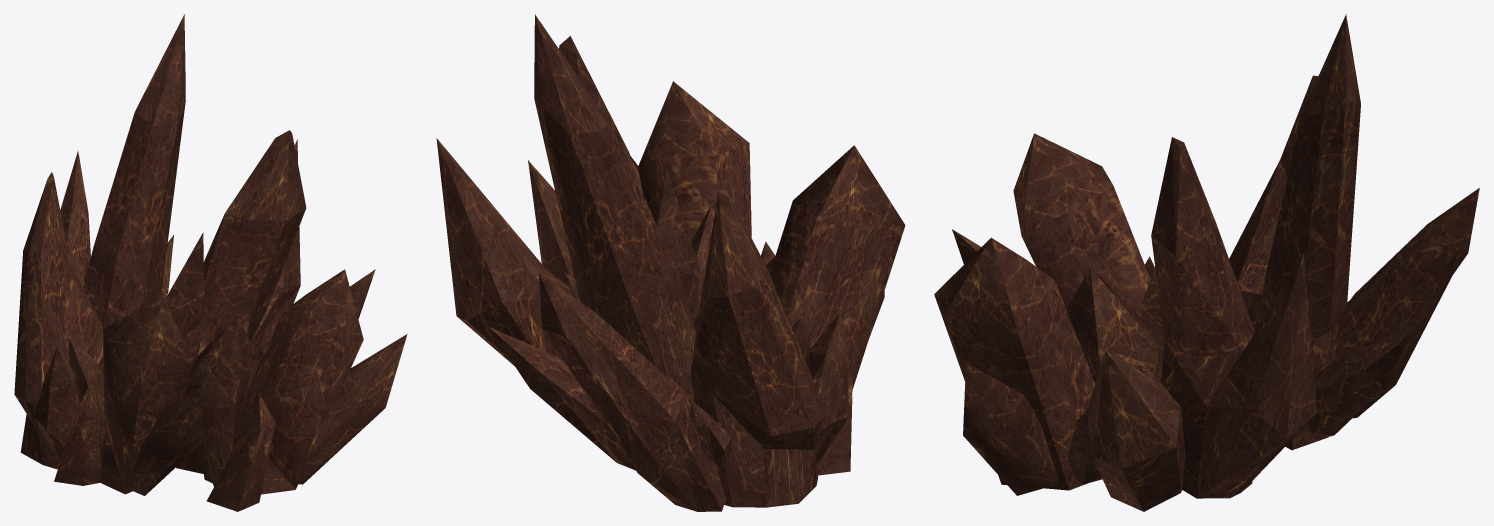
Rendered from crystallargedeathfire_00.fbx.
The picture shows the model from 3 angles, left to right: view 1: azimuth 30°, elevation 25°; view 2: azimuth 150°, elevation 25°; view 3: azimuth 270°, elevation 25°; orthographic projection. The views are drawn at different scales.
Visible parts, largest first — view 1: Geoset_0; view 2: Geoset_0; view 3: Geoset_0.
Boxes of the visible parts, box(x1,y1,x2,y2) form: Geoset_0: box(14, 14, 407, 511); Geoset_0: box(436, 14, 905, 511); Geoset_0: box(934, 14, 1479, 511).
Bounding box in the file's own units: 3.78 × 4.57 × 4.64.
Materials: 1 (1 with a texture image).
